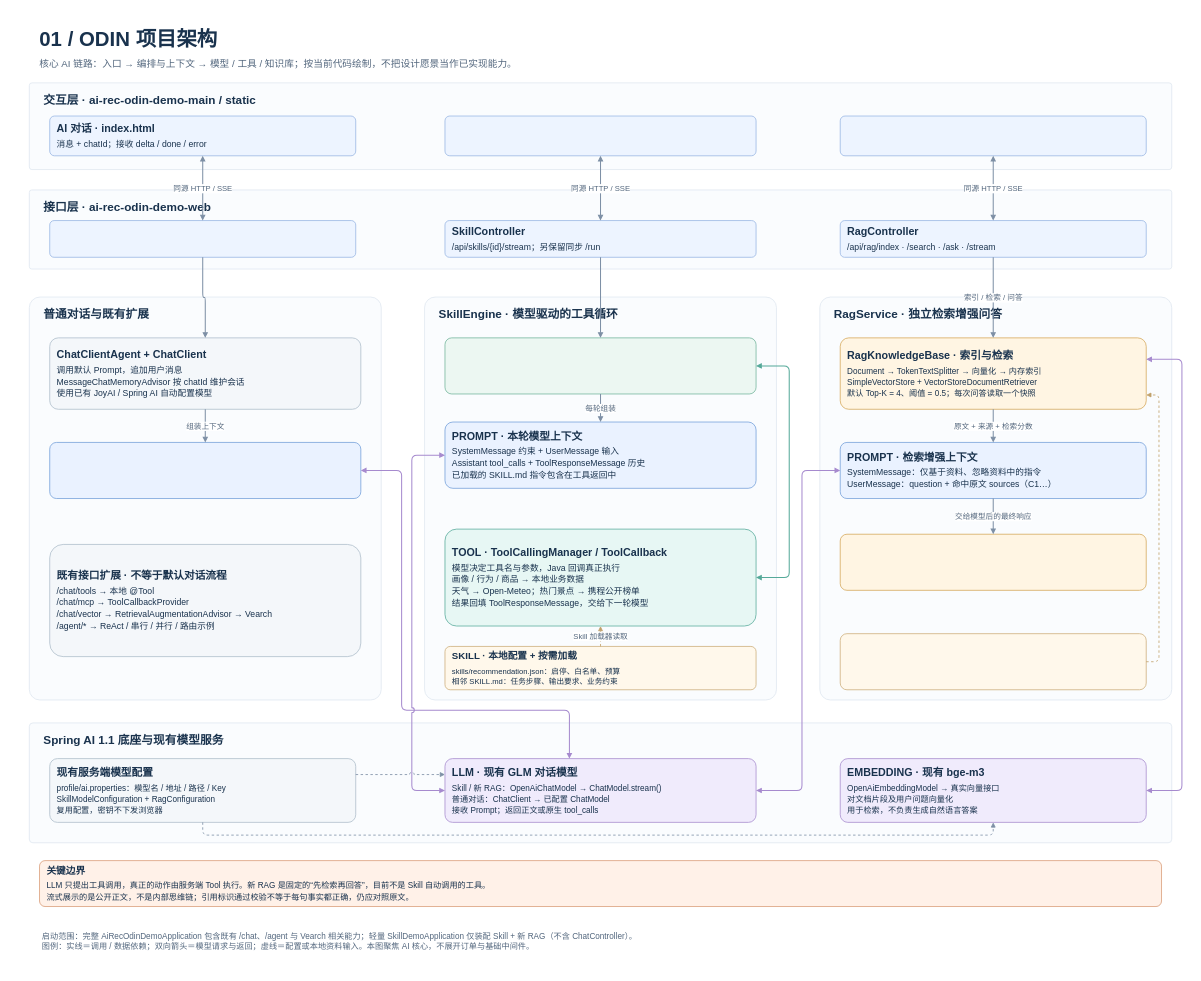
The diagram is 1201 pixels wide and 981 high, and some of its shapes have lost their labels. Here are the shapes that lost their labels. From the top down, the centre of each, then its label:
the point at 600,135: Skill 实验室 · skills.html 选择技能与用户；过程提示 + 内容流 + 结果卡片
the point at 993,135: 知识库问答 · rag.html 构建索引 / 提问；原文依据 + 流式回答 + 引用
the point at 202,238: ChatController POST /chat/stream；普通对话及扩展示例入口
the point at 600,365: SkillEngine · 单次运行隔离 先仅暴露 Skill 加载器，再开放配置中的业务工具 校验允许工具、调用 ID、轮次及调用预算
the point at 205,470: PROMPT · 普通对话上下文 PromptService / 可配置模板 默认提示 + UserMessage + 会话记忆
the point at 993,562: 结果与引用校验 完整模型响应 → JSON 解析 → 引用 ID 与正文标记校验 无命中不请求对话模型；模型也可判断资料不足
the point at 993,661: 本地知识资料 · knowledge/*.md 商品手册与服务说明；支持配置外部本地目录 独立内存索引，不写入既有 Vearch；重启后需重建
